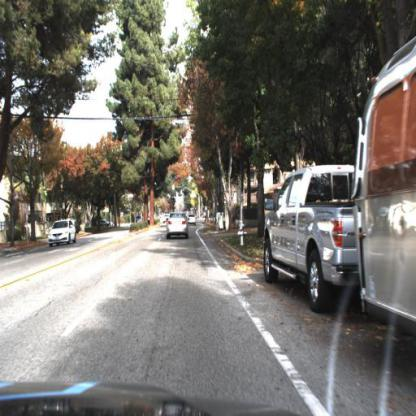car: (161, 204, 196, 246), (44, 214, 78, 254), (46, 219, 78, 250), (183, 205, 198, 226)
truck: (260, 21, 416, 347)
